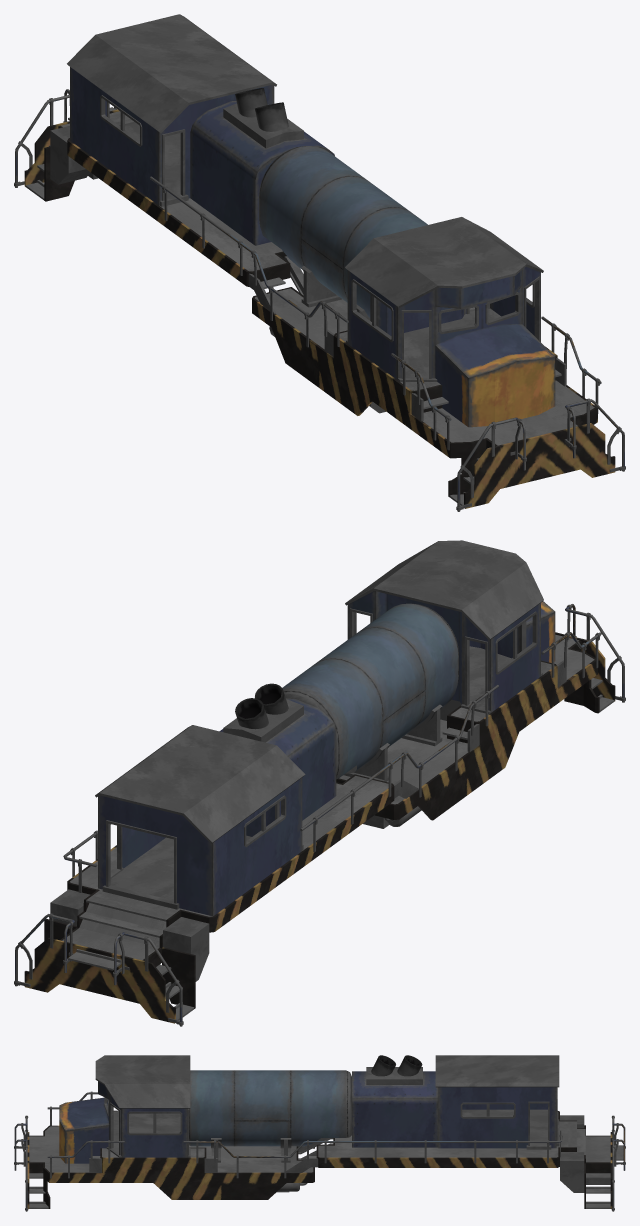
Rendered from Locomotive_Body.fbx.
3 views of the same model, one above another, from view 1: azimuth 30°, elevation 25°; view 2: azimuth 150°, elevation 25°; view 3: azimuth 270°, elevation 25° (orthographic). The views are drawn at different scales.
Parts seen in each view (by area): view 1: Locomotive_Body; view 2: Locomotive_Body; view 3: Locomotive_Body.
Boxes of the visible parts, bbox=[...] form: Locomotive_Body: bbox=[14, 14, 625, 511]; Locomotive_Body: bbox=[14, 540, 625, 1026]; Locomotive_Body: bbox=[14, 1055, 625, 1211].
Size of what is drawn, in the model's own units: 389 by 426 by 1842.
